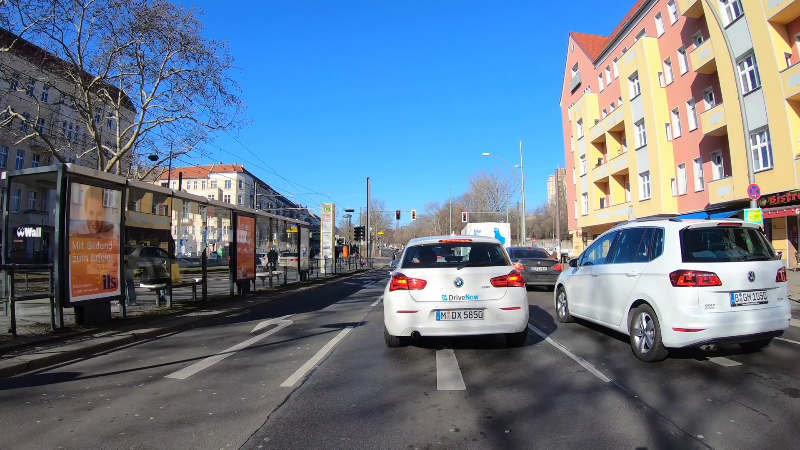Plate: (730, 287, 769, 305), (433, 308, 483, 321)
